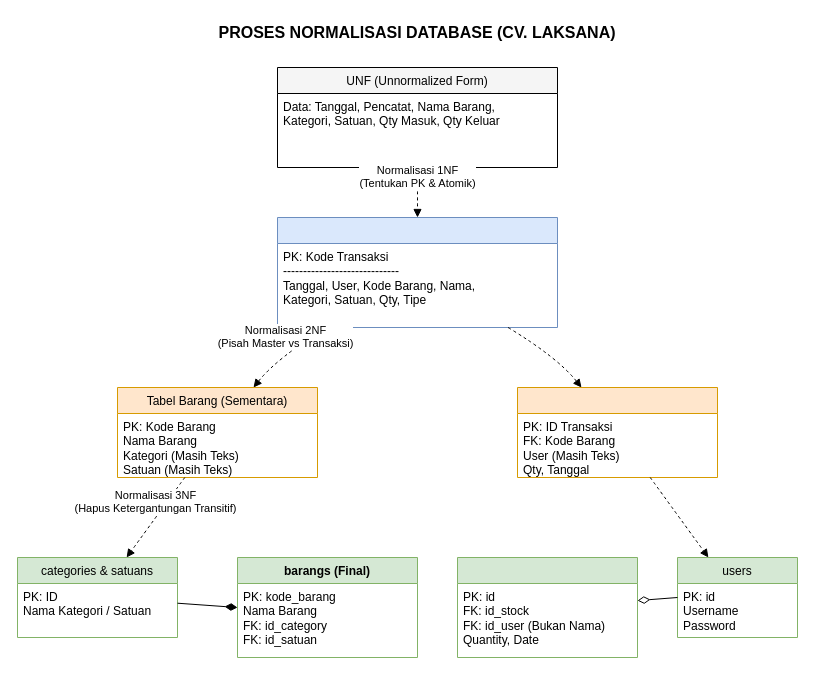
This 815x677 diagram has some shape labels left out. The shapes that lost their labels are listed below. From the top down, each one's box as (x1, y1, x2, y2) in pixels, then its label:
(276, 216, 558, 328): 1NF (First Normal Form)
(516, 386, 718, 478): Tabel Transaksi (Sementara)
(456, 556, 638, 658): stock_masuks/keluars
